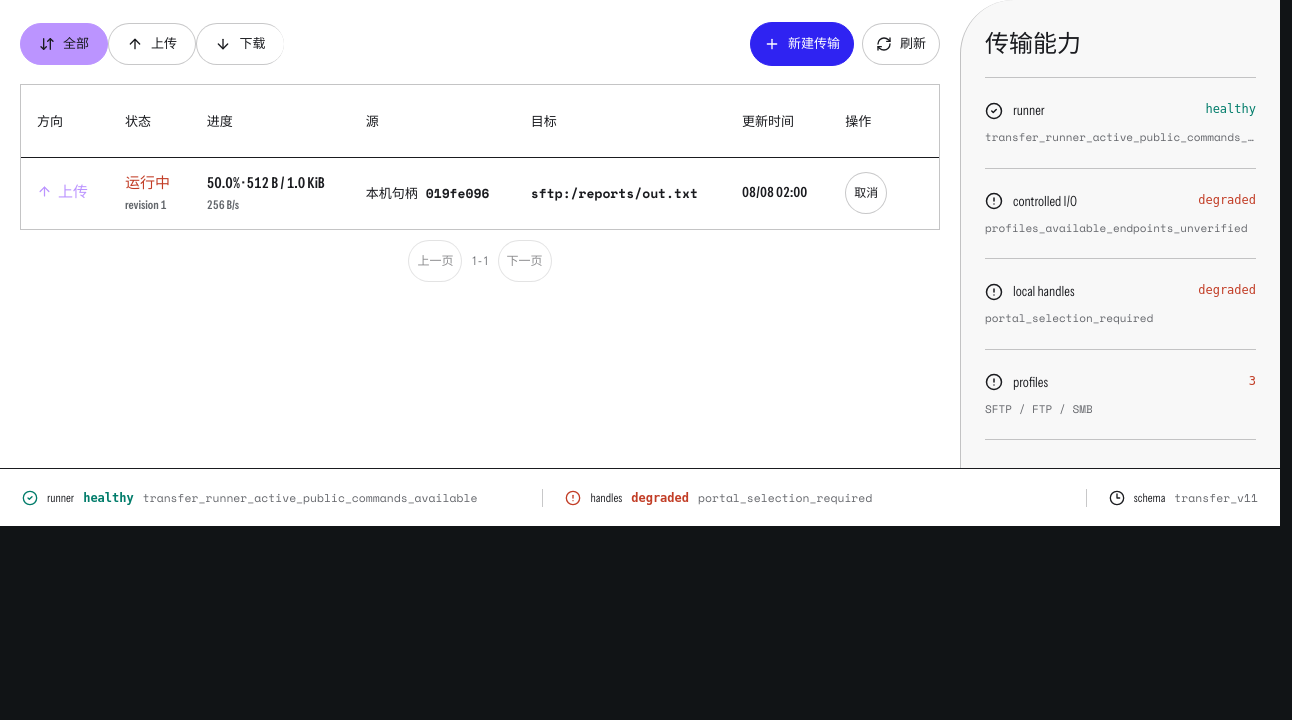
Test: TransfersView › does not start a task mutation while a queue refresh is pending
Step 1. Click the button "刷新" → (901,44), box [862, 23, 940, 65]
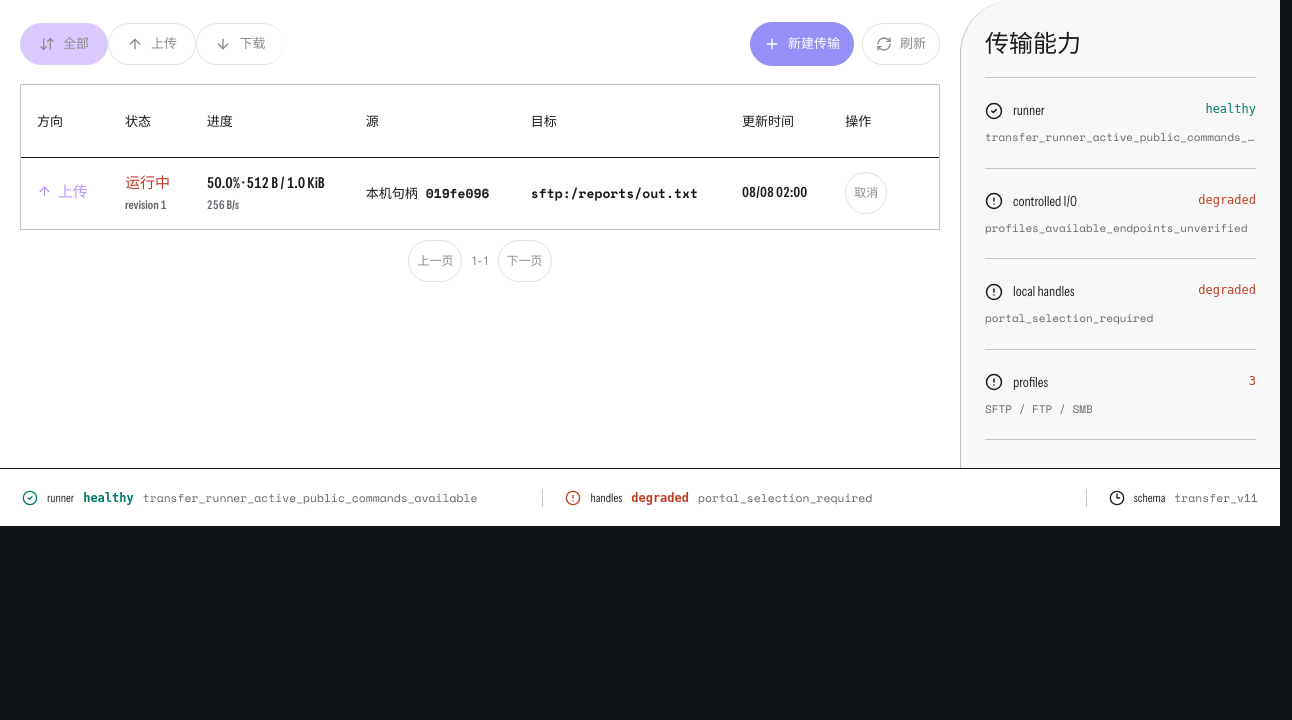
expect the button "取消" is disabled: met
Step 2. Click the button "取消" → (866,193), box [845, 172, 887, 214]
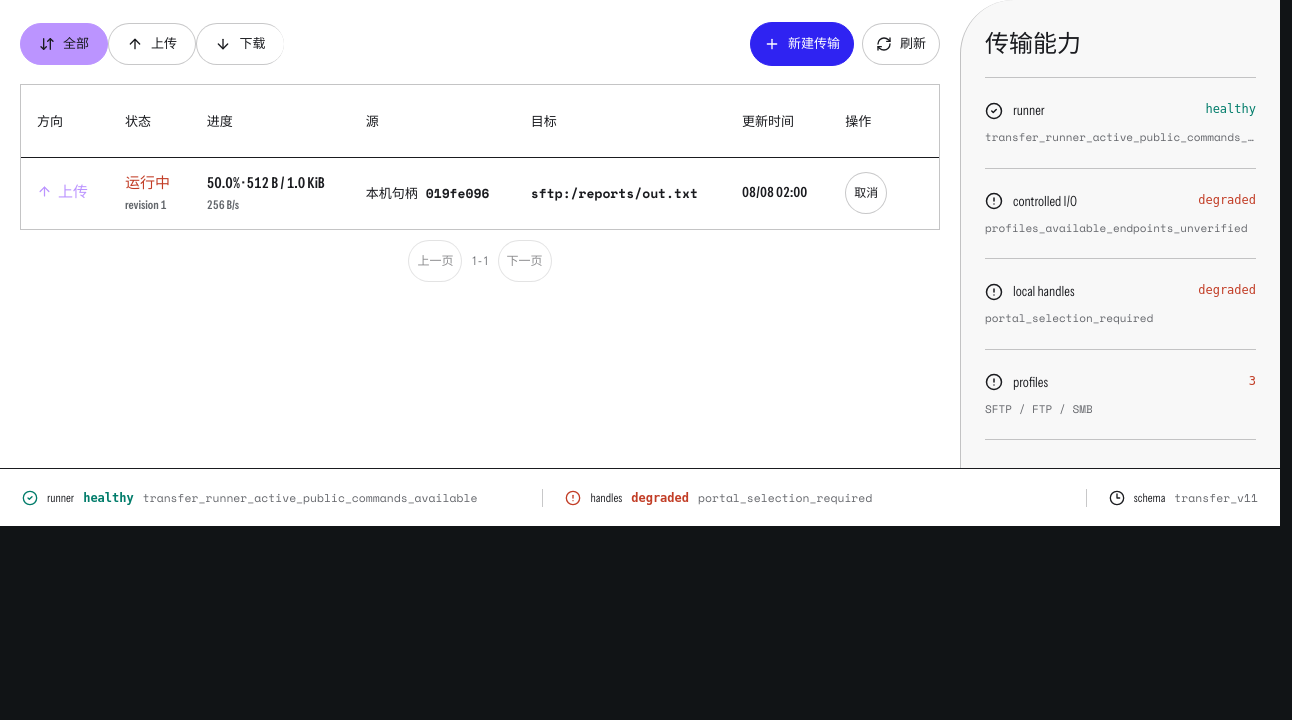
expect the button "取消" is enabled: met, box [845, 172, 887, 214]
